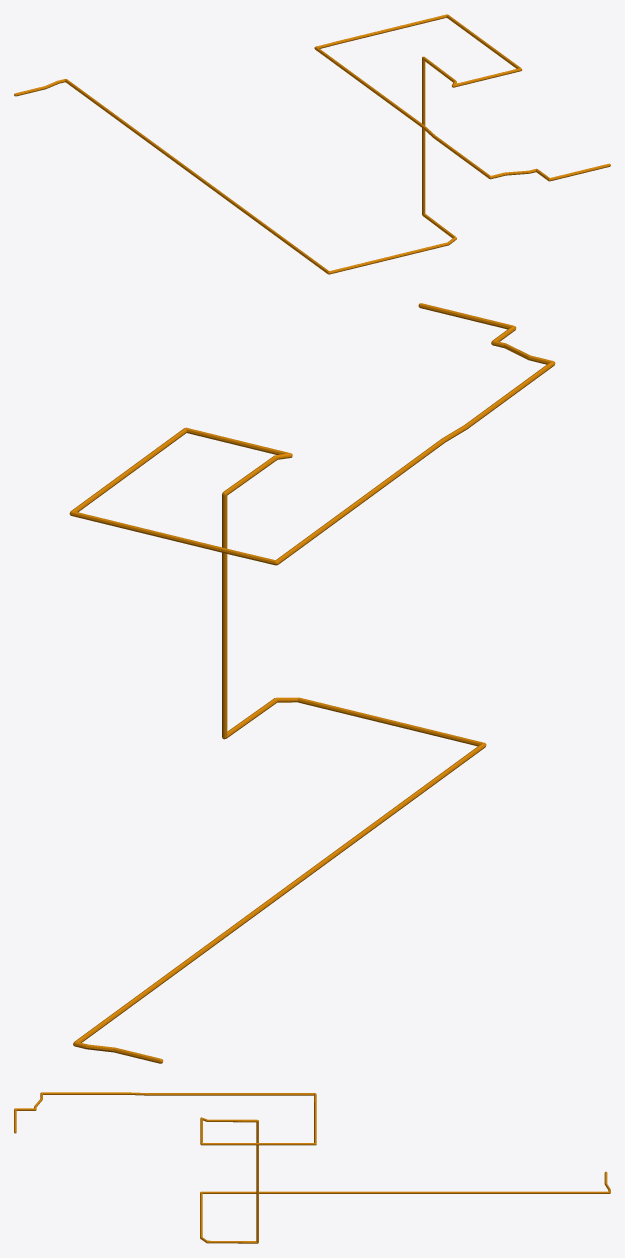
The picture shows the model from 3 angles, top to bottom: view 1: azimuth 30°, elevation 25°; view 2: azimuth 150°, elevation 25°; view 3: azimuth 270°, elevation 25°; orthographic projection. The views are drawn at different scales.
Size of the model in its own units: 1656 by 1020 by 4460.
